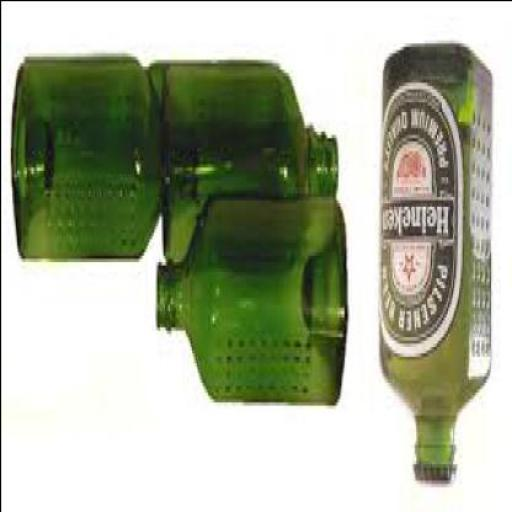glass: (383, 48, 493, 480), (156, 199, 346, 408), (11, 55, 197, 261), (166, 58, 339, 264)
metal: (415, 466, 458, 488)
